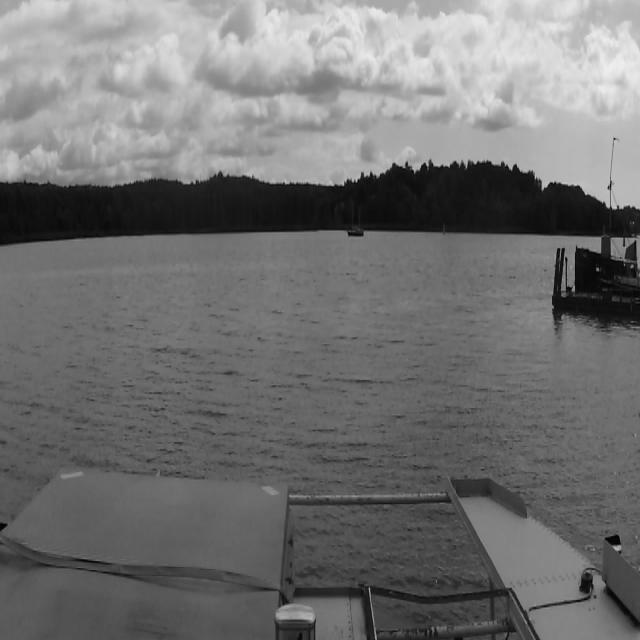ship: (348, 194, 363, 236)
